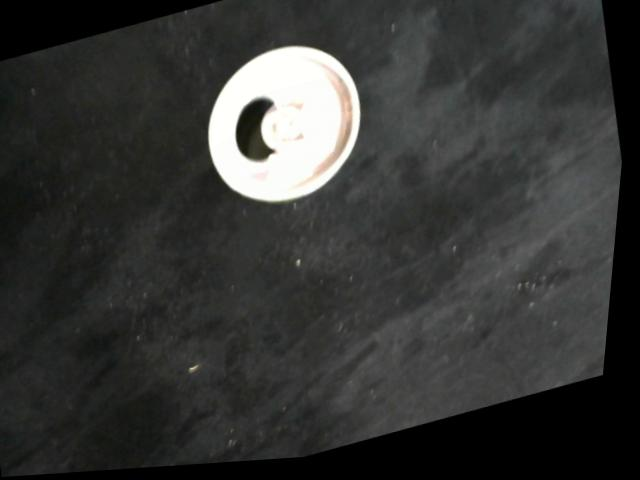can: (188, 29, 386, 227)
